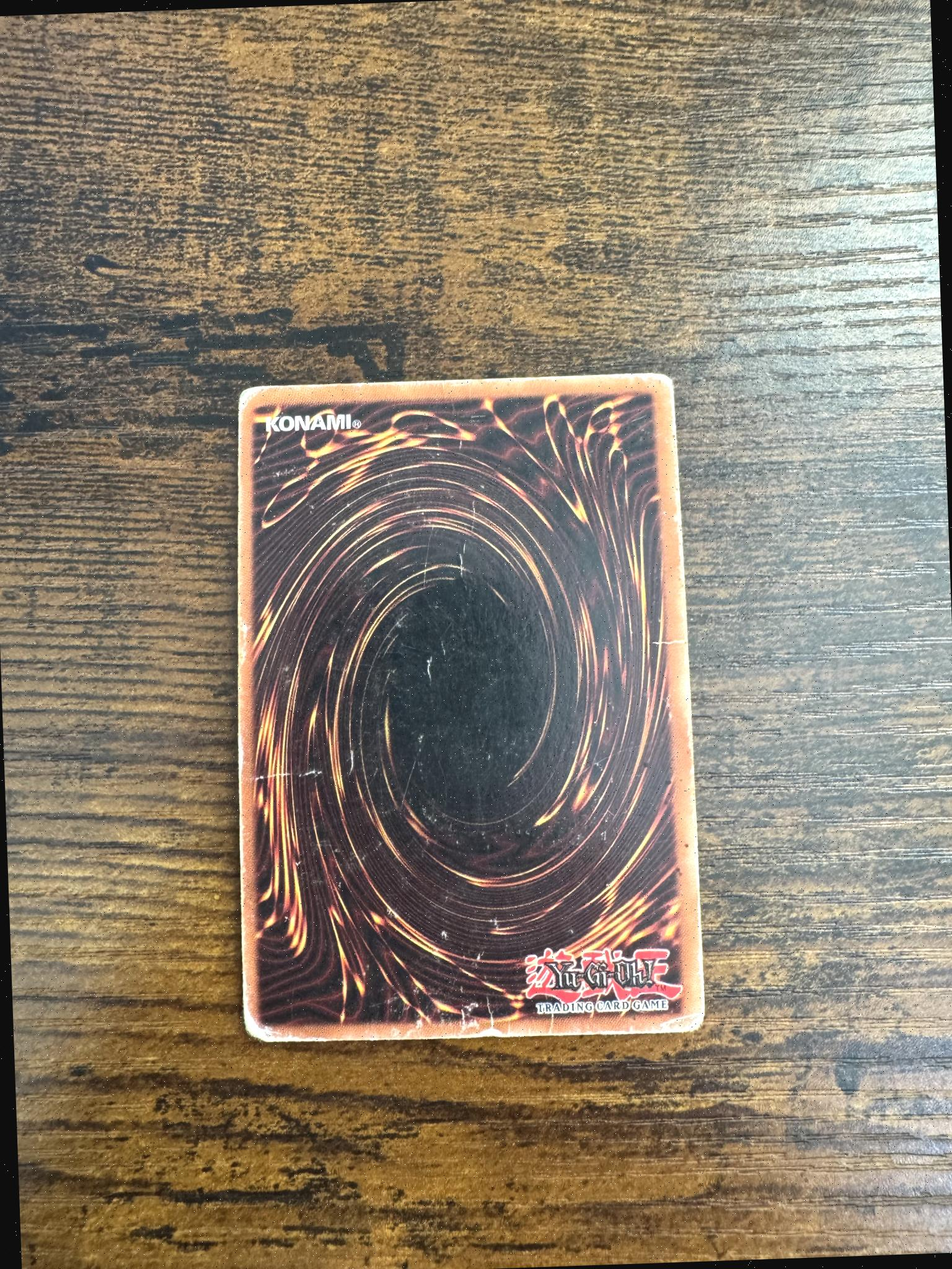card-2UtV: (238, 373, 705, 1043)
